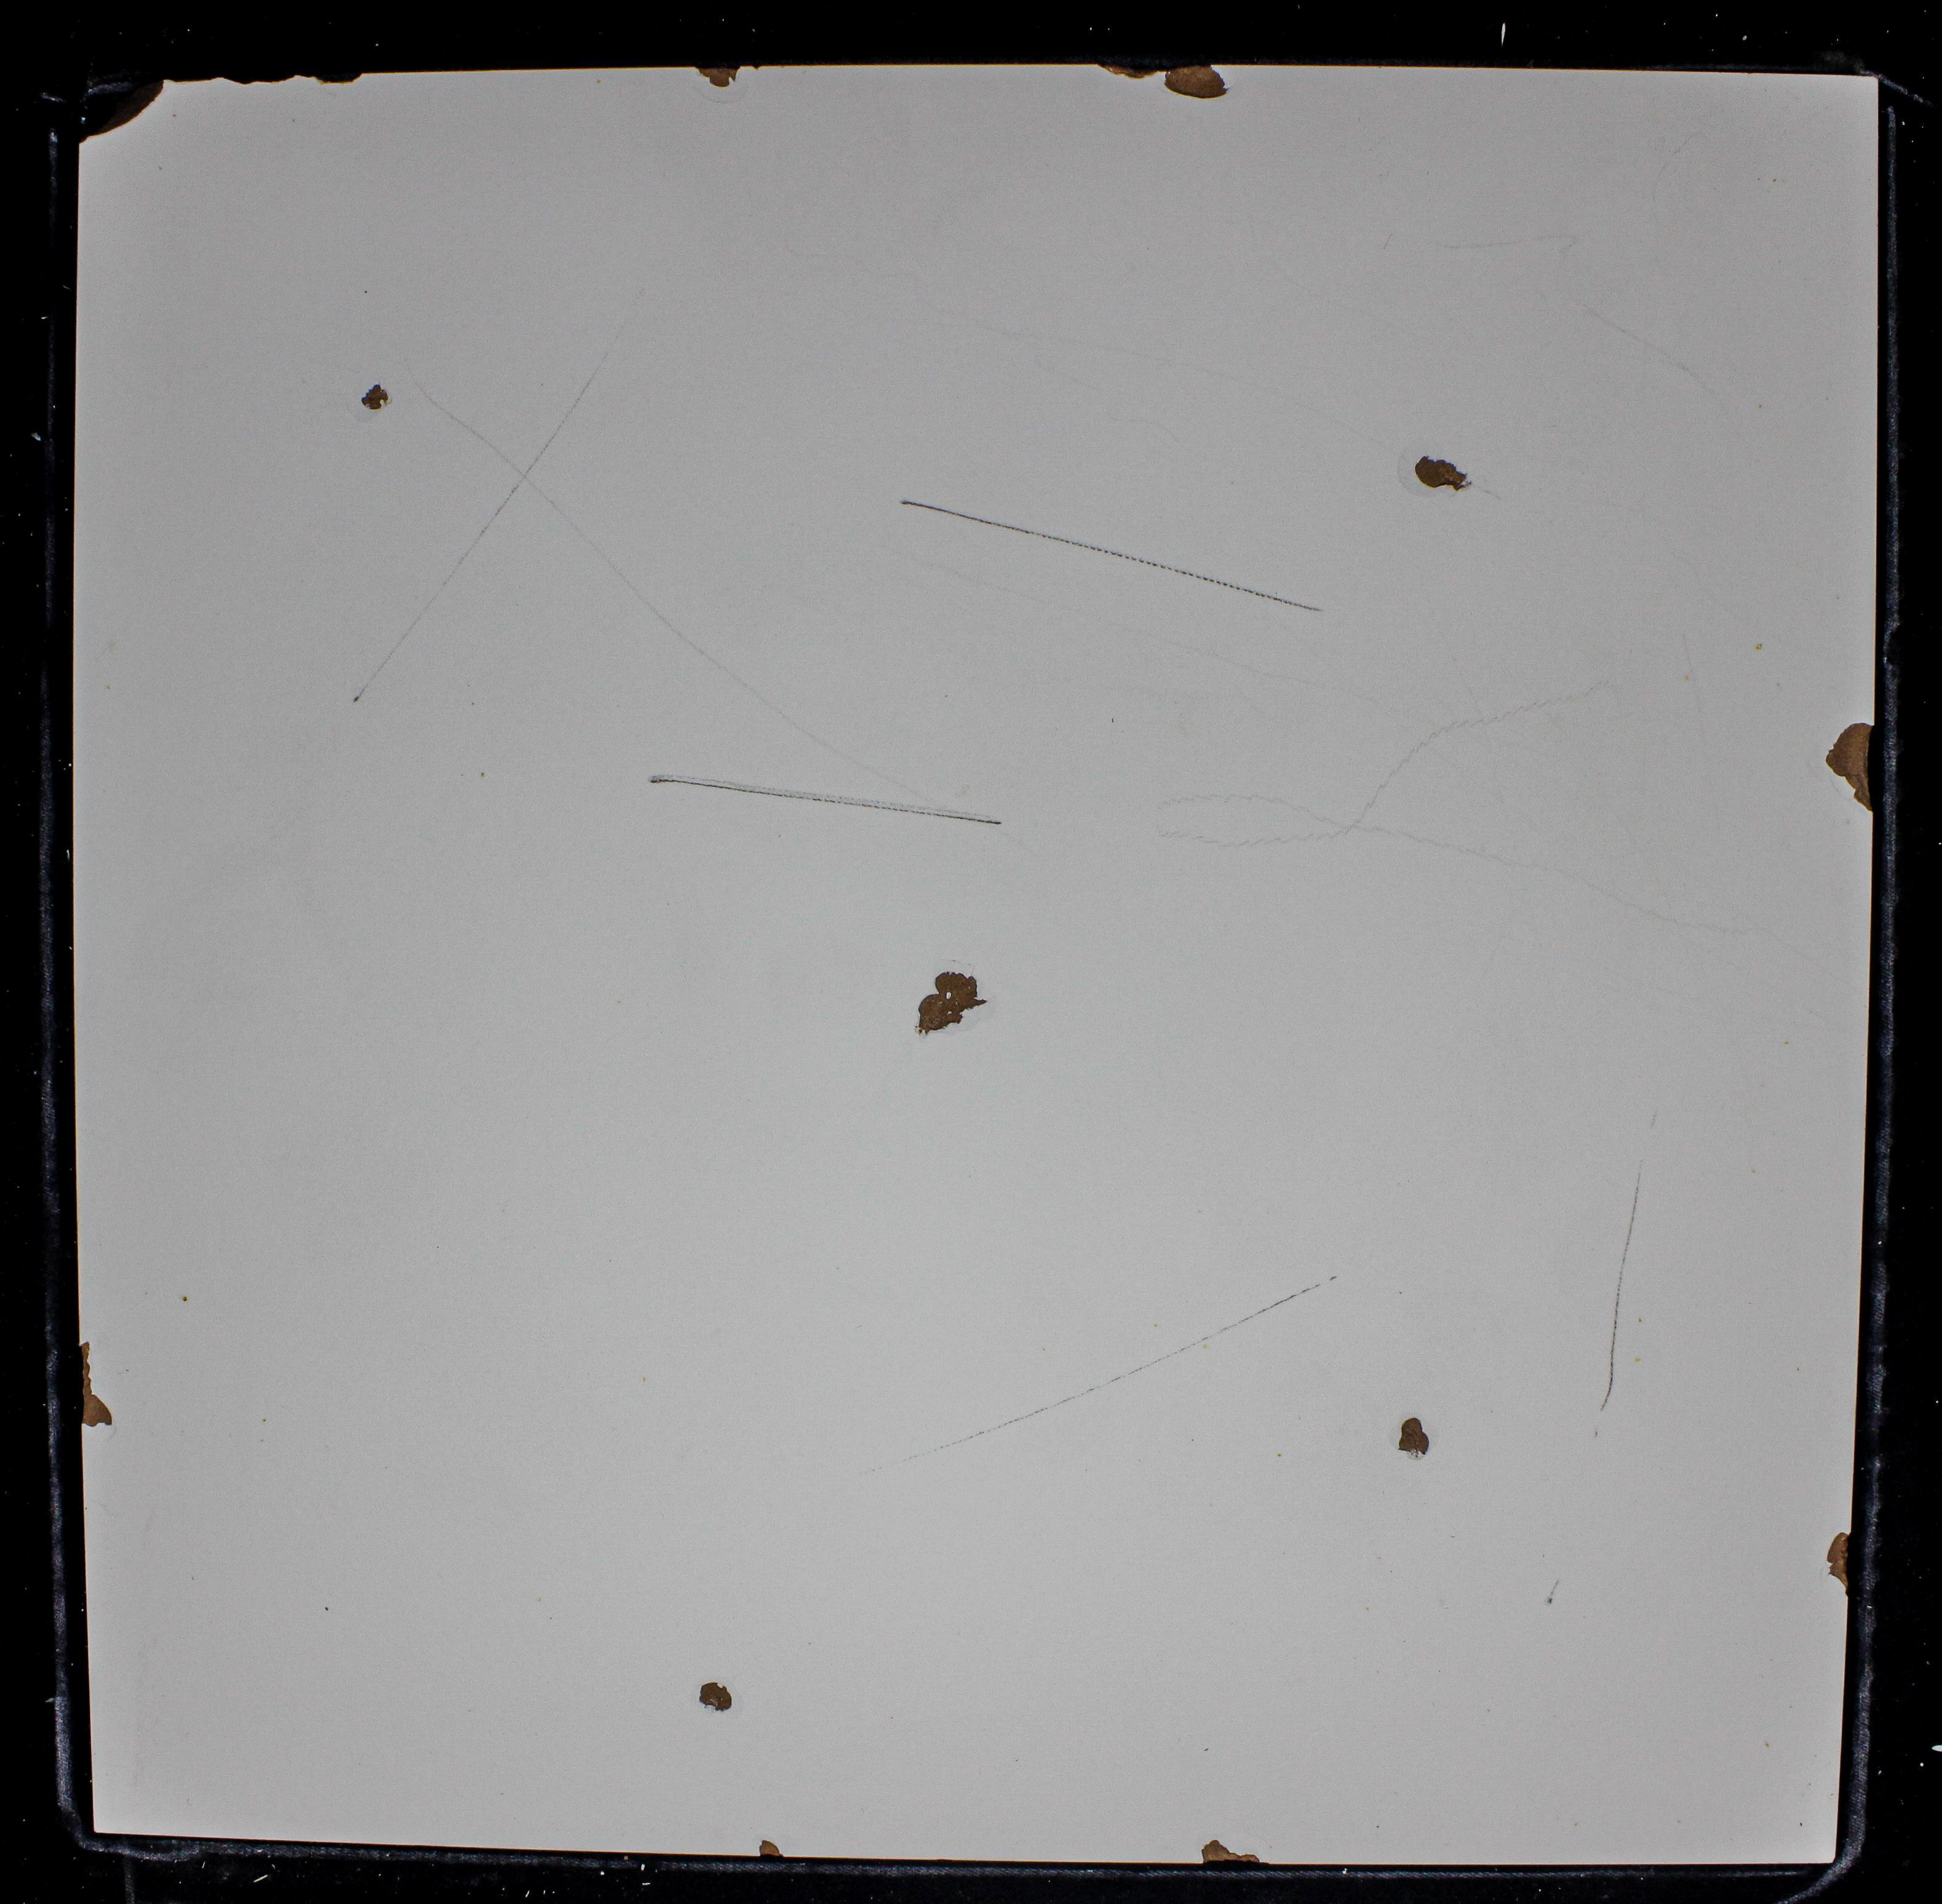edge-chipping: (78, 78, 166, 145), (1825, 720, 1879, 814), (75, 1341, 113, 1430), (1163, 63, 1231, 101), (1825, 1529, 1857, 1599), (1199, 1838, 1262, 1866), (1097, 61, 1161, 82), (694, 63, 744, 89), (227, 73, 300, 87), (303, 71, 368, 87), (173, 71, 221, 85), (758, 1839, 784, 1862)
hole: (903, 968, 988, 1041), (1412, 452, 1475, 495), (1393, 1412, 1435, 1459), (356, 380, 394, 415), (699, 1681, 734, 1714)
line: (941, 1283, 1321, 1449), (900, 495, 1330, 617), (532, 486, 729, 677), (356, 483, 519, 701), (643, 771, 1006, 830), (526, 340, 617, 474), (403, 377, 521, 474), (1597, 1170, 1642, 1416)
